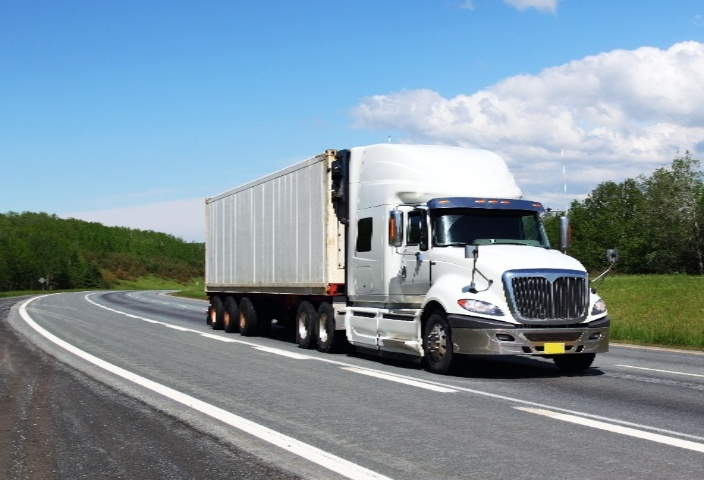truck: (190, 155, 630, 383)
